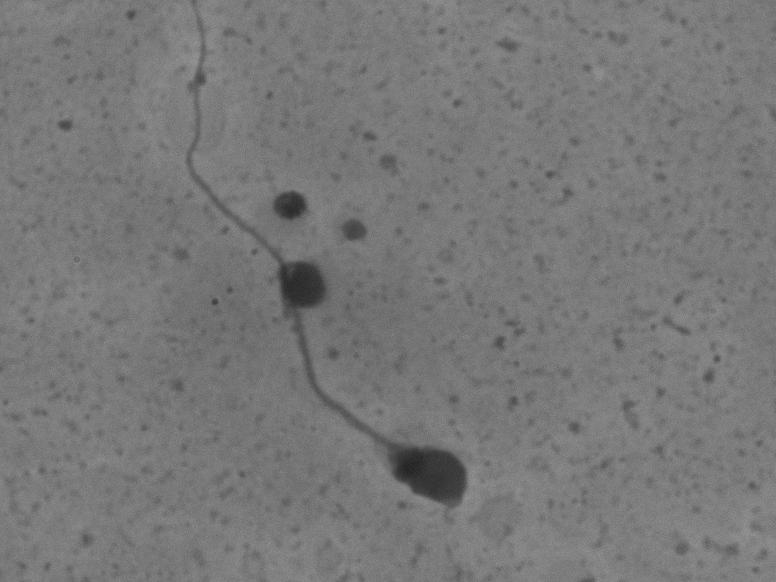Abnormal: (125, 3, 483, 534)
